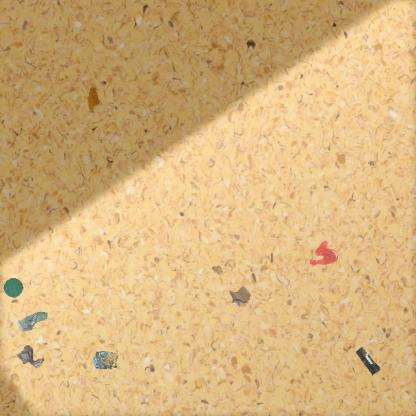dirty: (353, 345, 382, 376), (14, 309, 50, 333), (15, 343, 46, 369), (91, 349, 121, 372), (227, 284, 254, 309), (2, 276, 26, 300)
liquid: (308, 239, 338, 267), (86, 87, 101, 113)
